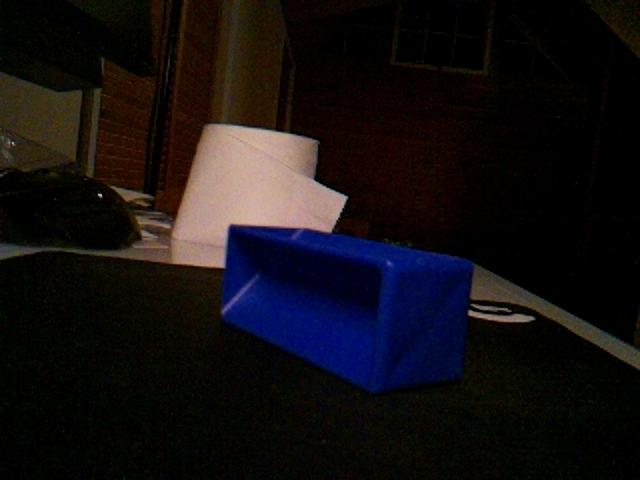blue: (219, 222, 475, 395)
